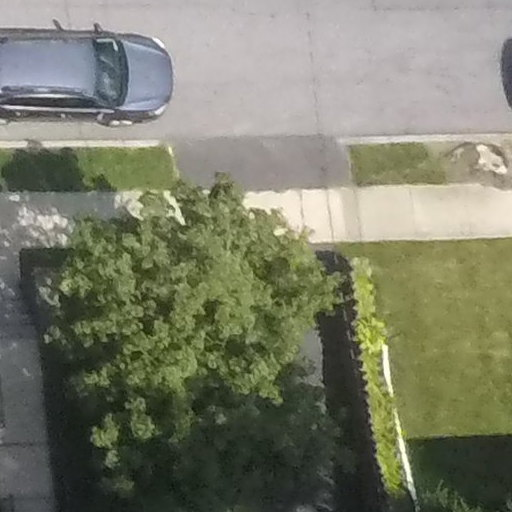car: (1, 21, 179, 129)
street: (1, 1, 494, 152)
